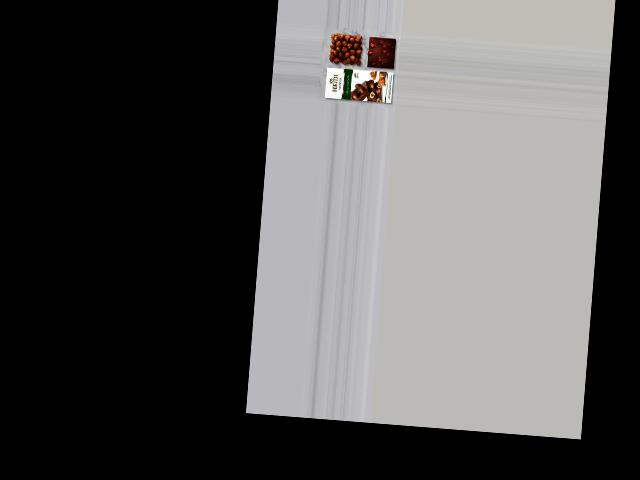chocolate: (366, 33, 397, 70)
